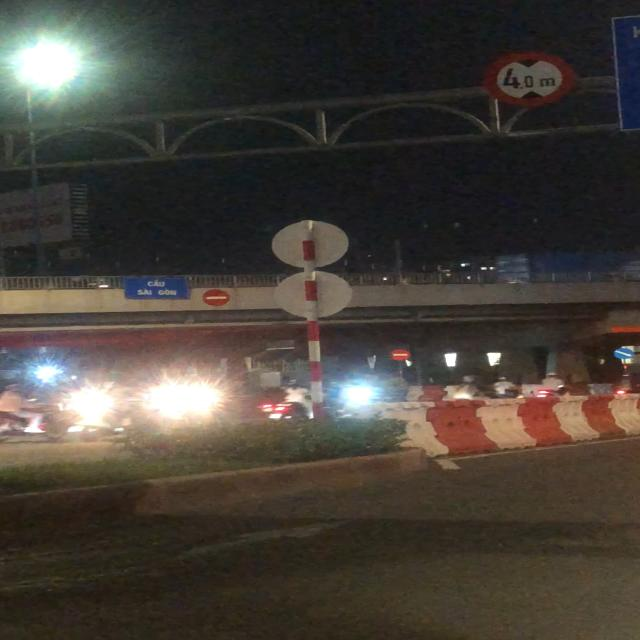Bien bao cam di nguoc chieu: (201, 288, 233, 307), (388, 348, 412, 362)
Bien bao huong phai di vong chuong ngai vat: (613, 346, 635, 361)
